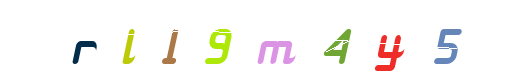1: (214, 0, 294, 80)
4: (240, 0, 320, 80)
5: (387, 0, 467, 80)
9: (223, 0, 303, 80)
L: (151, 0, 231, 80)
M: (236, 0, 316, 80)
R: (42, 0, 122, 80)
Y: (349, 0, 429, 80)
